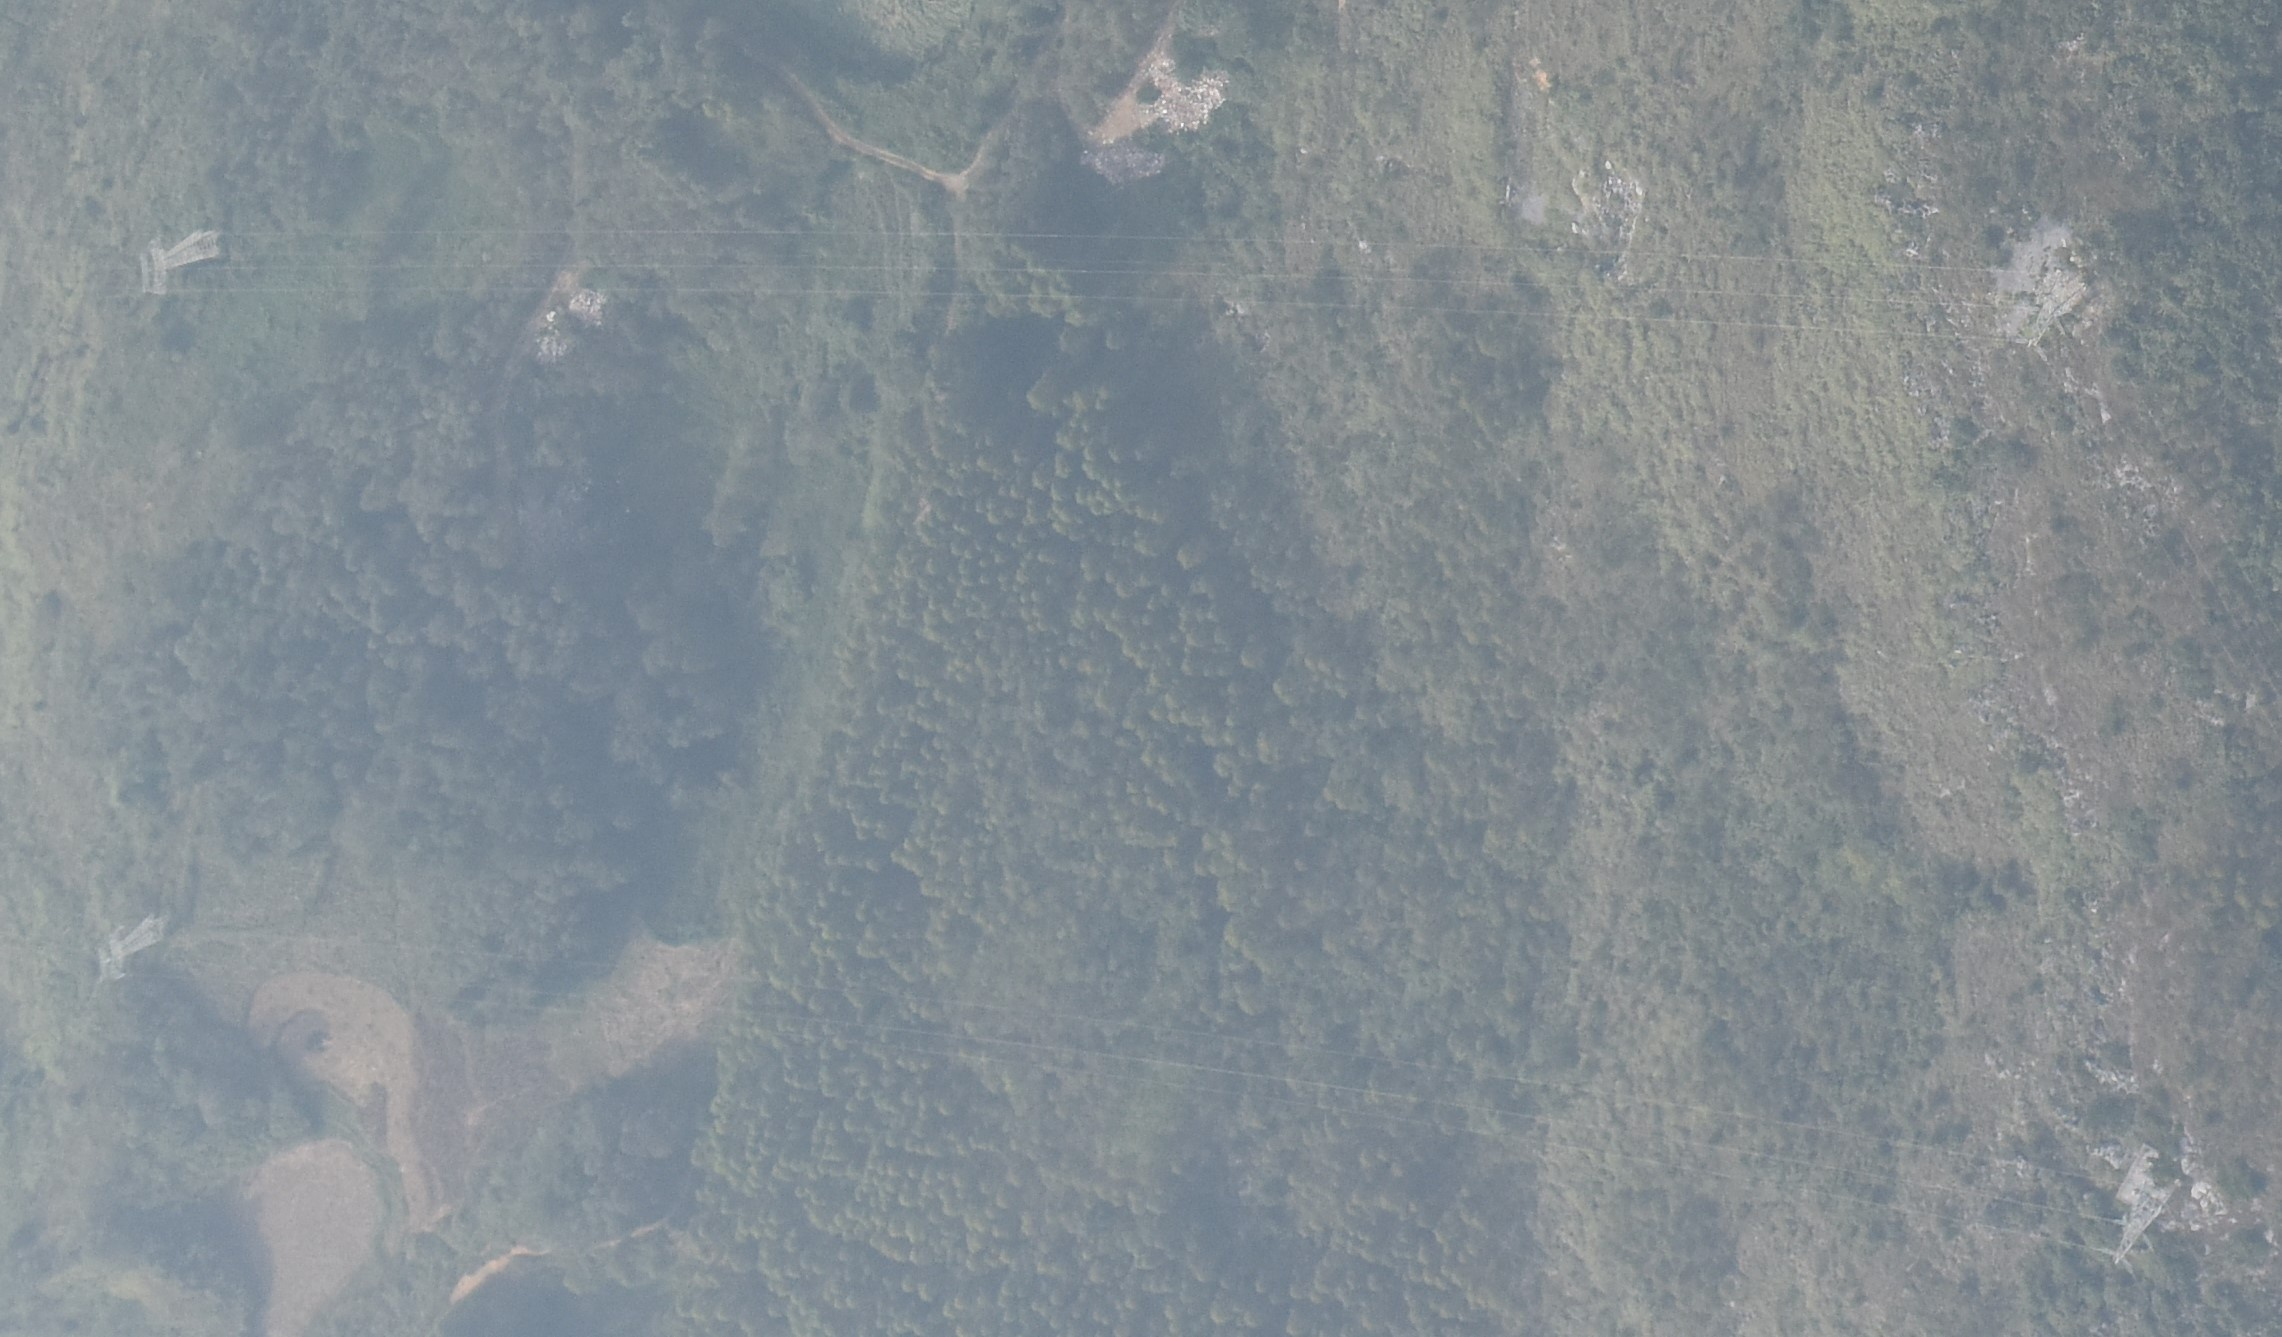cable-tower: (2114, 1143, 2172, 1265), (138, 229, 220, 296), (97, 914, 164, 981), (2028, 269, 2085, 347)
